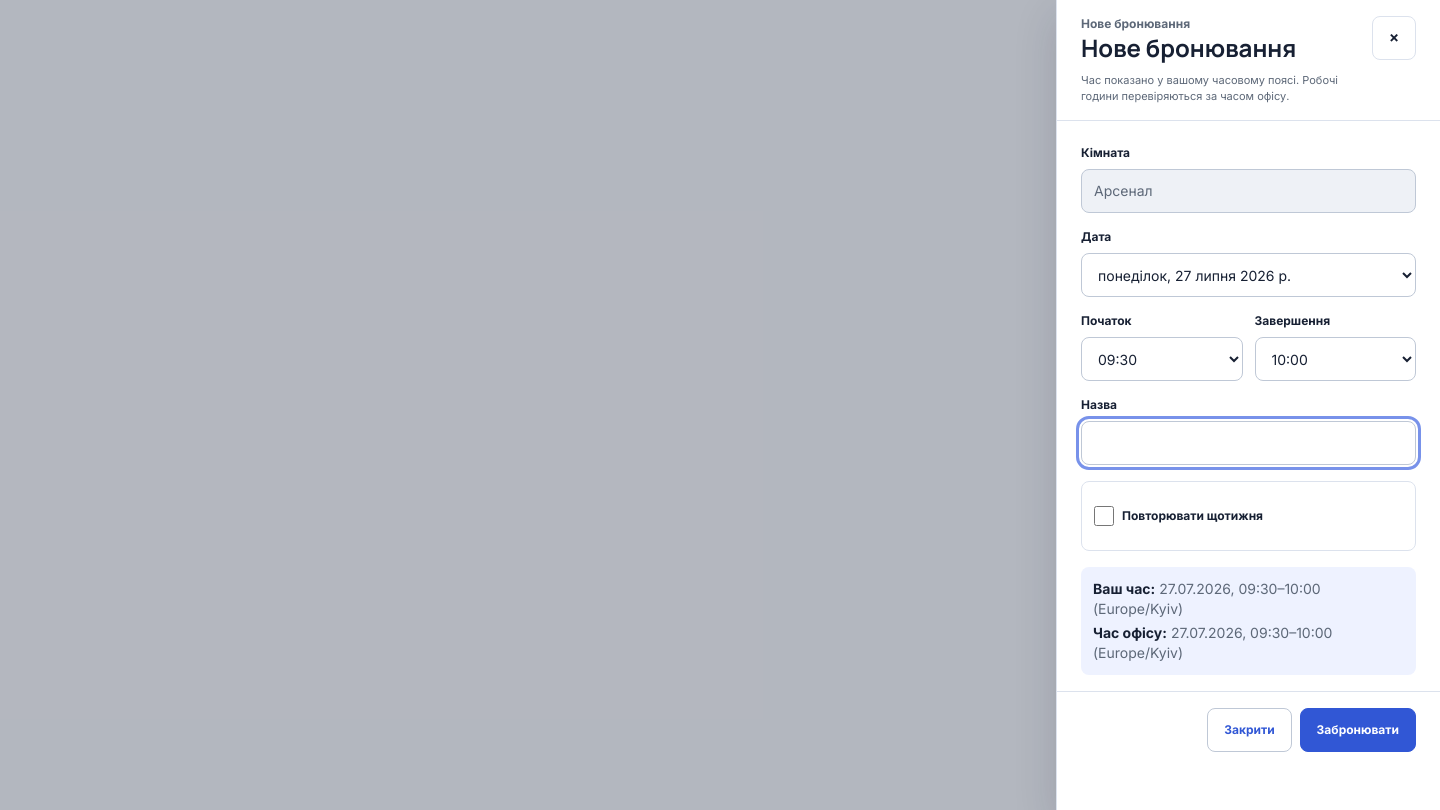
it: BookingSheet › localizes domain field errors and focuses the first invalid field
Type "Планування" into the field labelled "Назва" at [1248, 443], box [1081,421,1416,465]
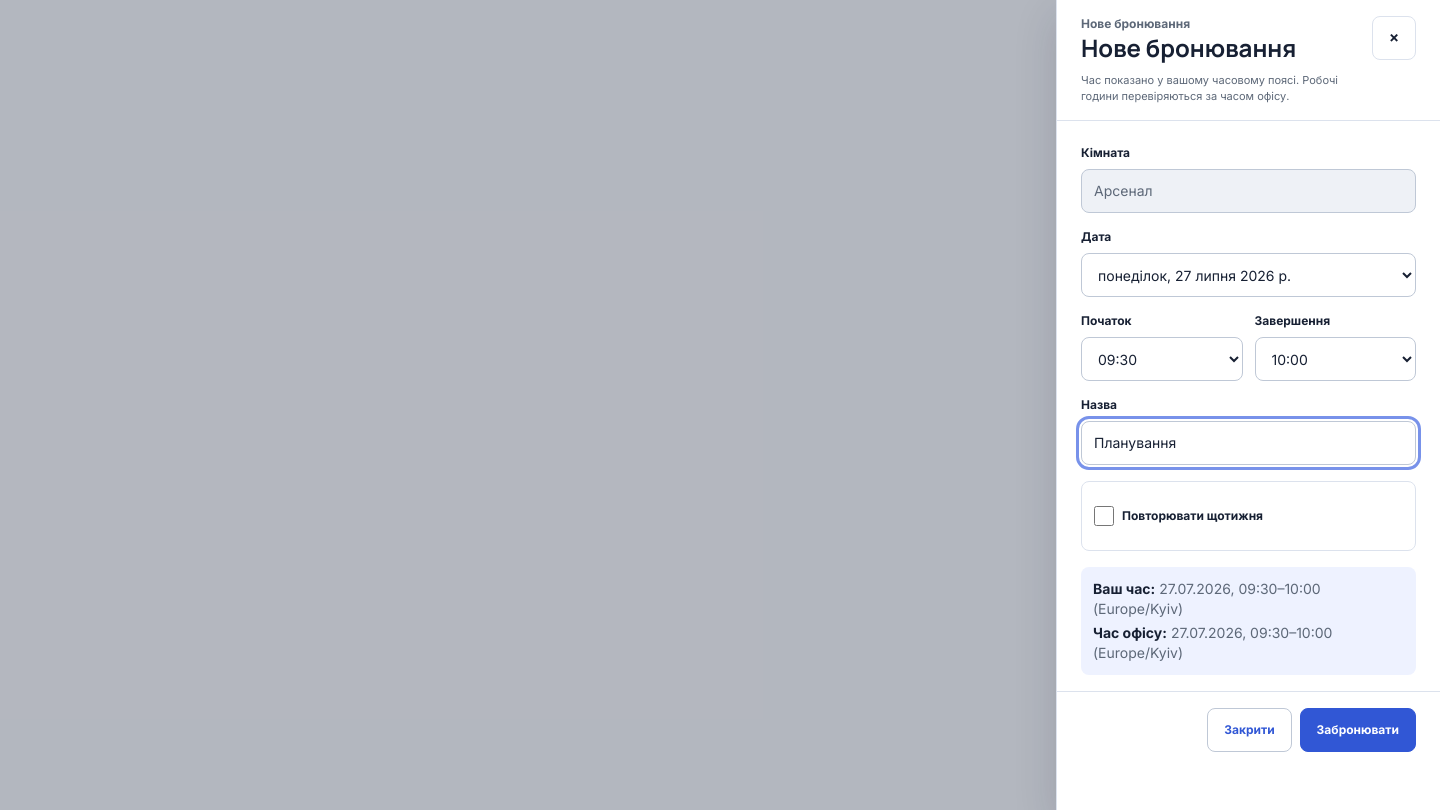
Click the button "Забронювати" at [1358, 730], box [1300,708,1416,752]
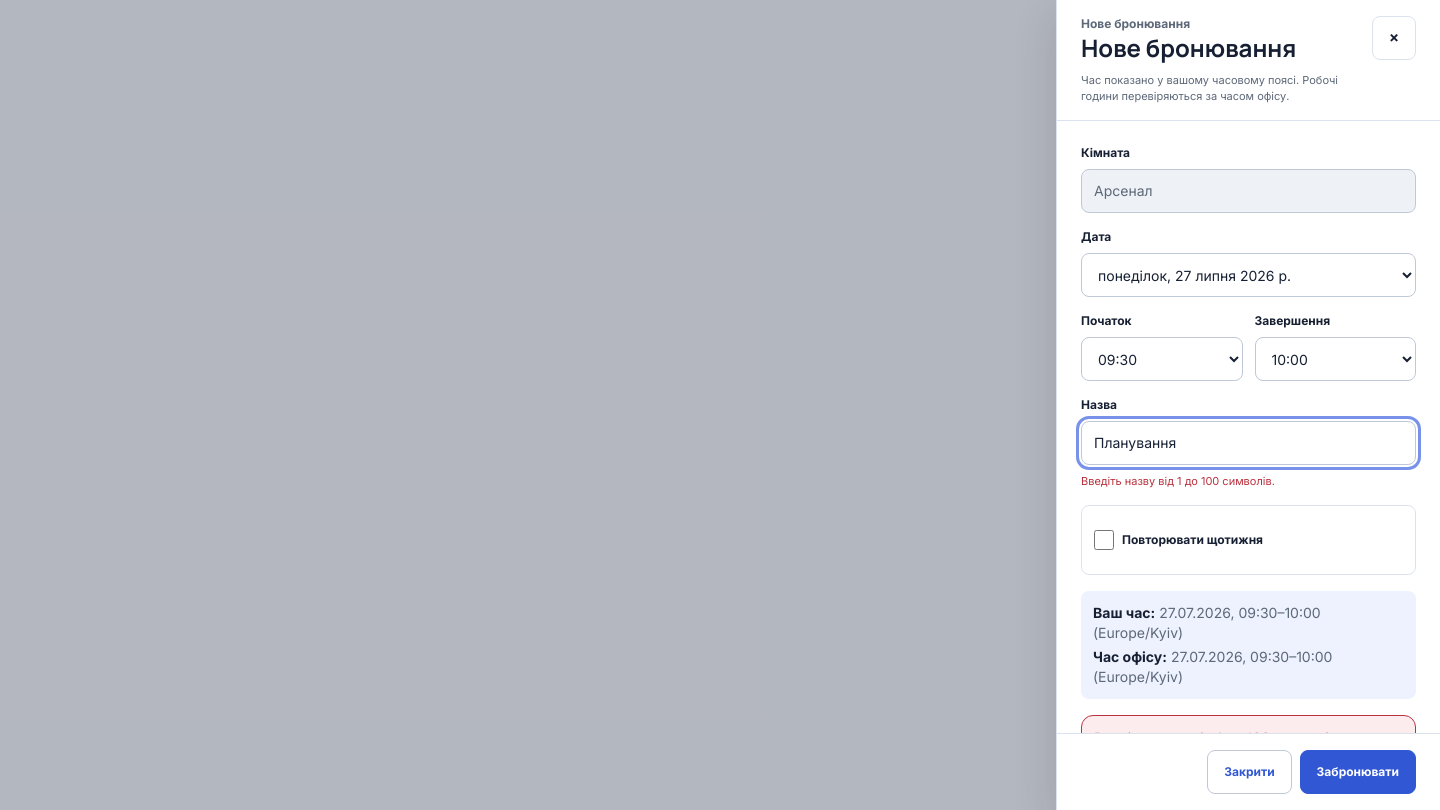
Now the text with id "booking-title-error" reads "Введіть назву від 1 до 100 символів.", box [1081,474,1275,488]
